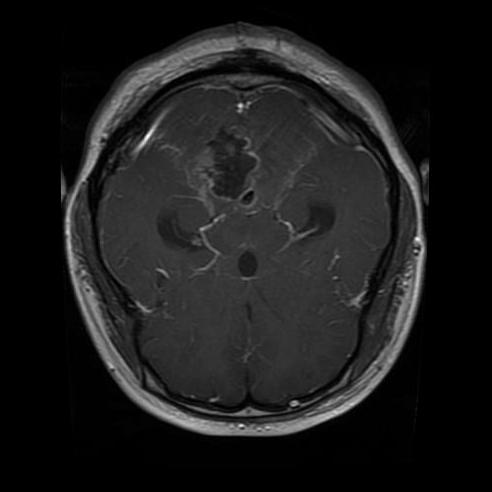Tumour-Glioma: (176, 125, 263, 201)
